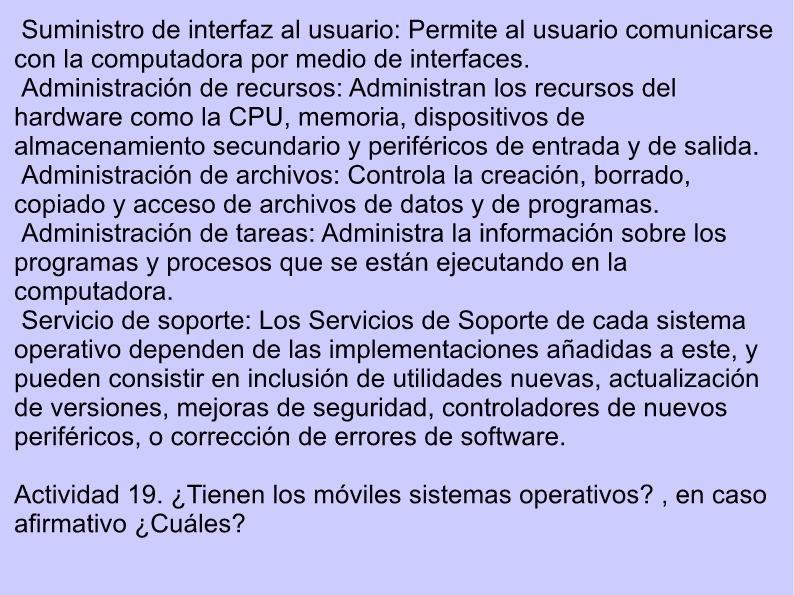paragraph: (7, 5, 787, 554)
